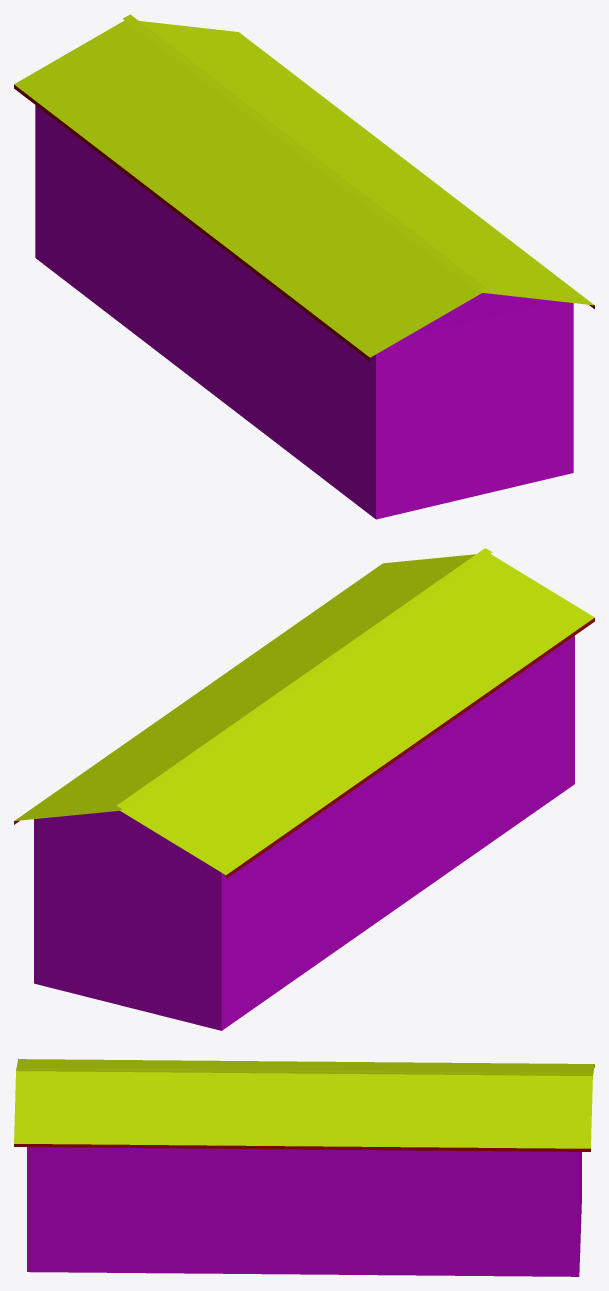
Rendered from lct_3.glb.
The picture shows the model from 3 angles, top to bottom: view 1: azimuth 30°, elevation 25°; view 2: azimuth 150°, elevation 25°; view 3: azimuth 270°, elevation 25°; orthographic projection. The views are drawn at different scales.
Visible parts, largest first — view 1: lct_3; view 2: lct_3; view 3: lct_3.
Boxes of the visible parts, x1,y1,x2,y2 form: lct_3: (14,14,594,519); lct_3: (14,548,594,1030); lct_3: (14,1059,594,1276).
Size of the model in its own units: 7.19 by 6.23 by 19.68.
